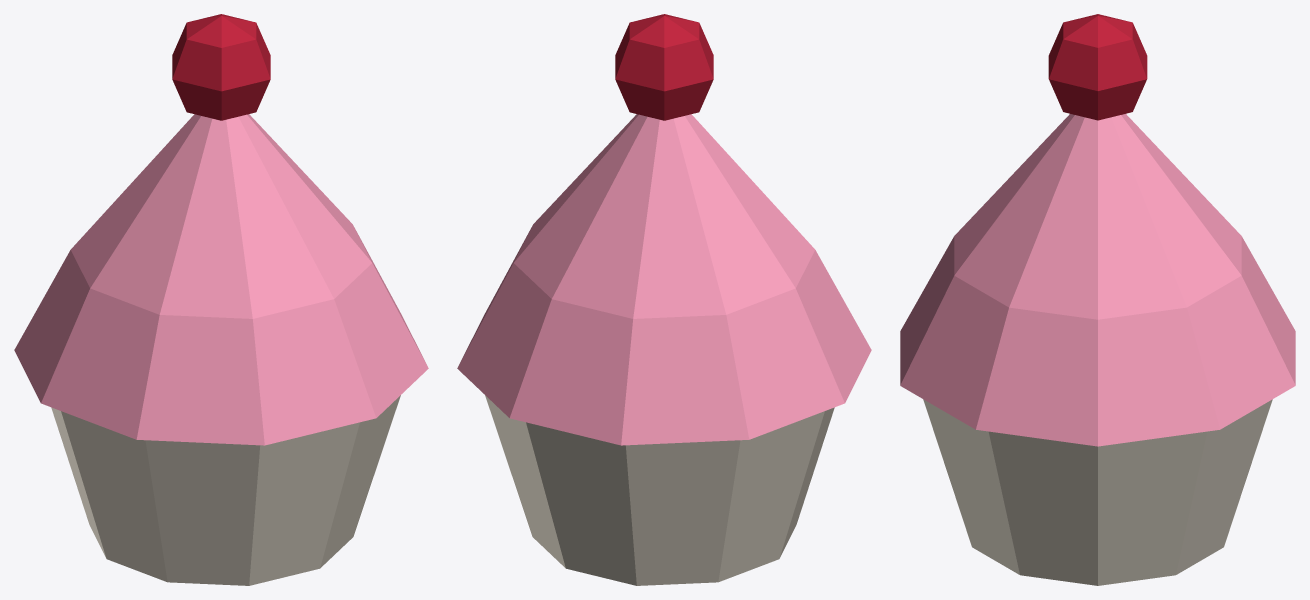
File: cupcake.obj
3 renders of one model, left to right at view 1: azimuth 30°, elevation 25°; view 2: azimuth 150°, elevation 25°; view 3: azimuth 270°, elevation 25°, orthographic.
Visible parts, largest first — view 1: cupcake; view 2: cupcake; view 3: cupcake.
Boxes of the visible parts, x1=… form: cupcake: x1=14, y1=14, x2=428, y2=585; cupcake: x1=457, y1=14, x2=871, y2=585; cupcake: x1=900, y1=14, x2=1295, y2=585.
Size of the model in its own units: 0.11 by 0.15 by 0.1046.
